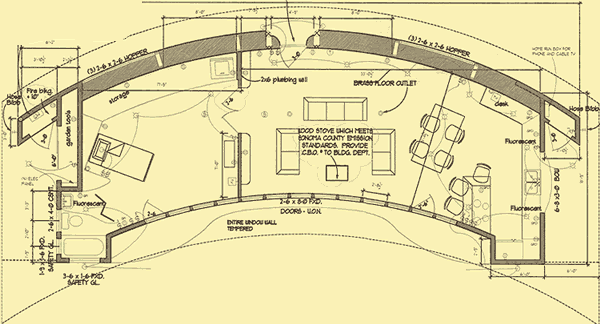bathroom has a tub space, small and large sink: (57, 186, 111, 263)
this is a livingroom with multiple set of large sofas and a center table: (272, 94, 401, 202)
